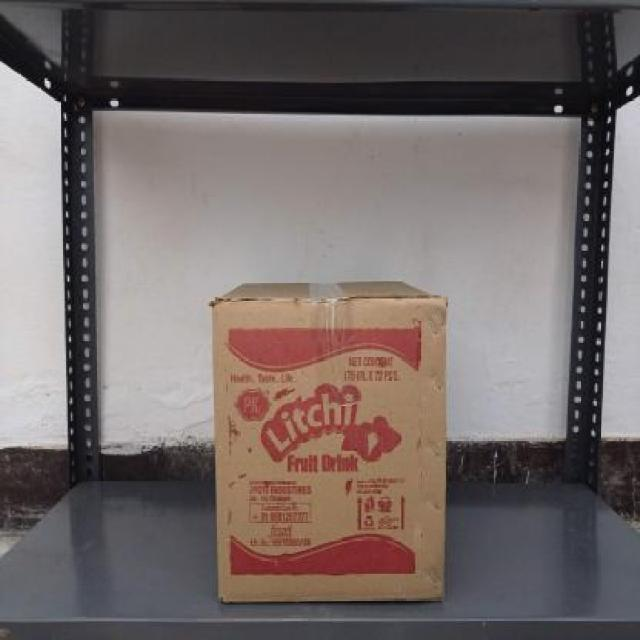box: (213, 297, 447, 606)
